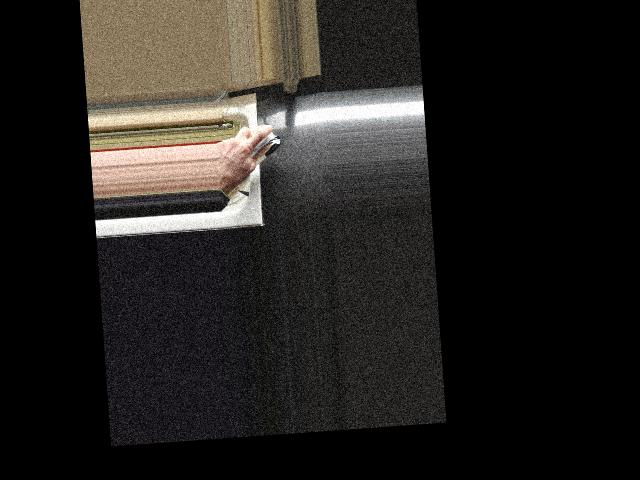cheese: (219, 126, 285, 177)
